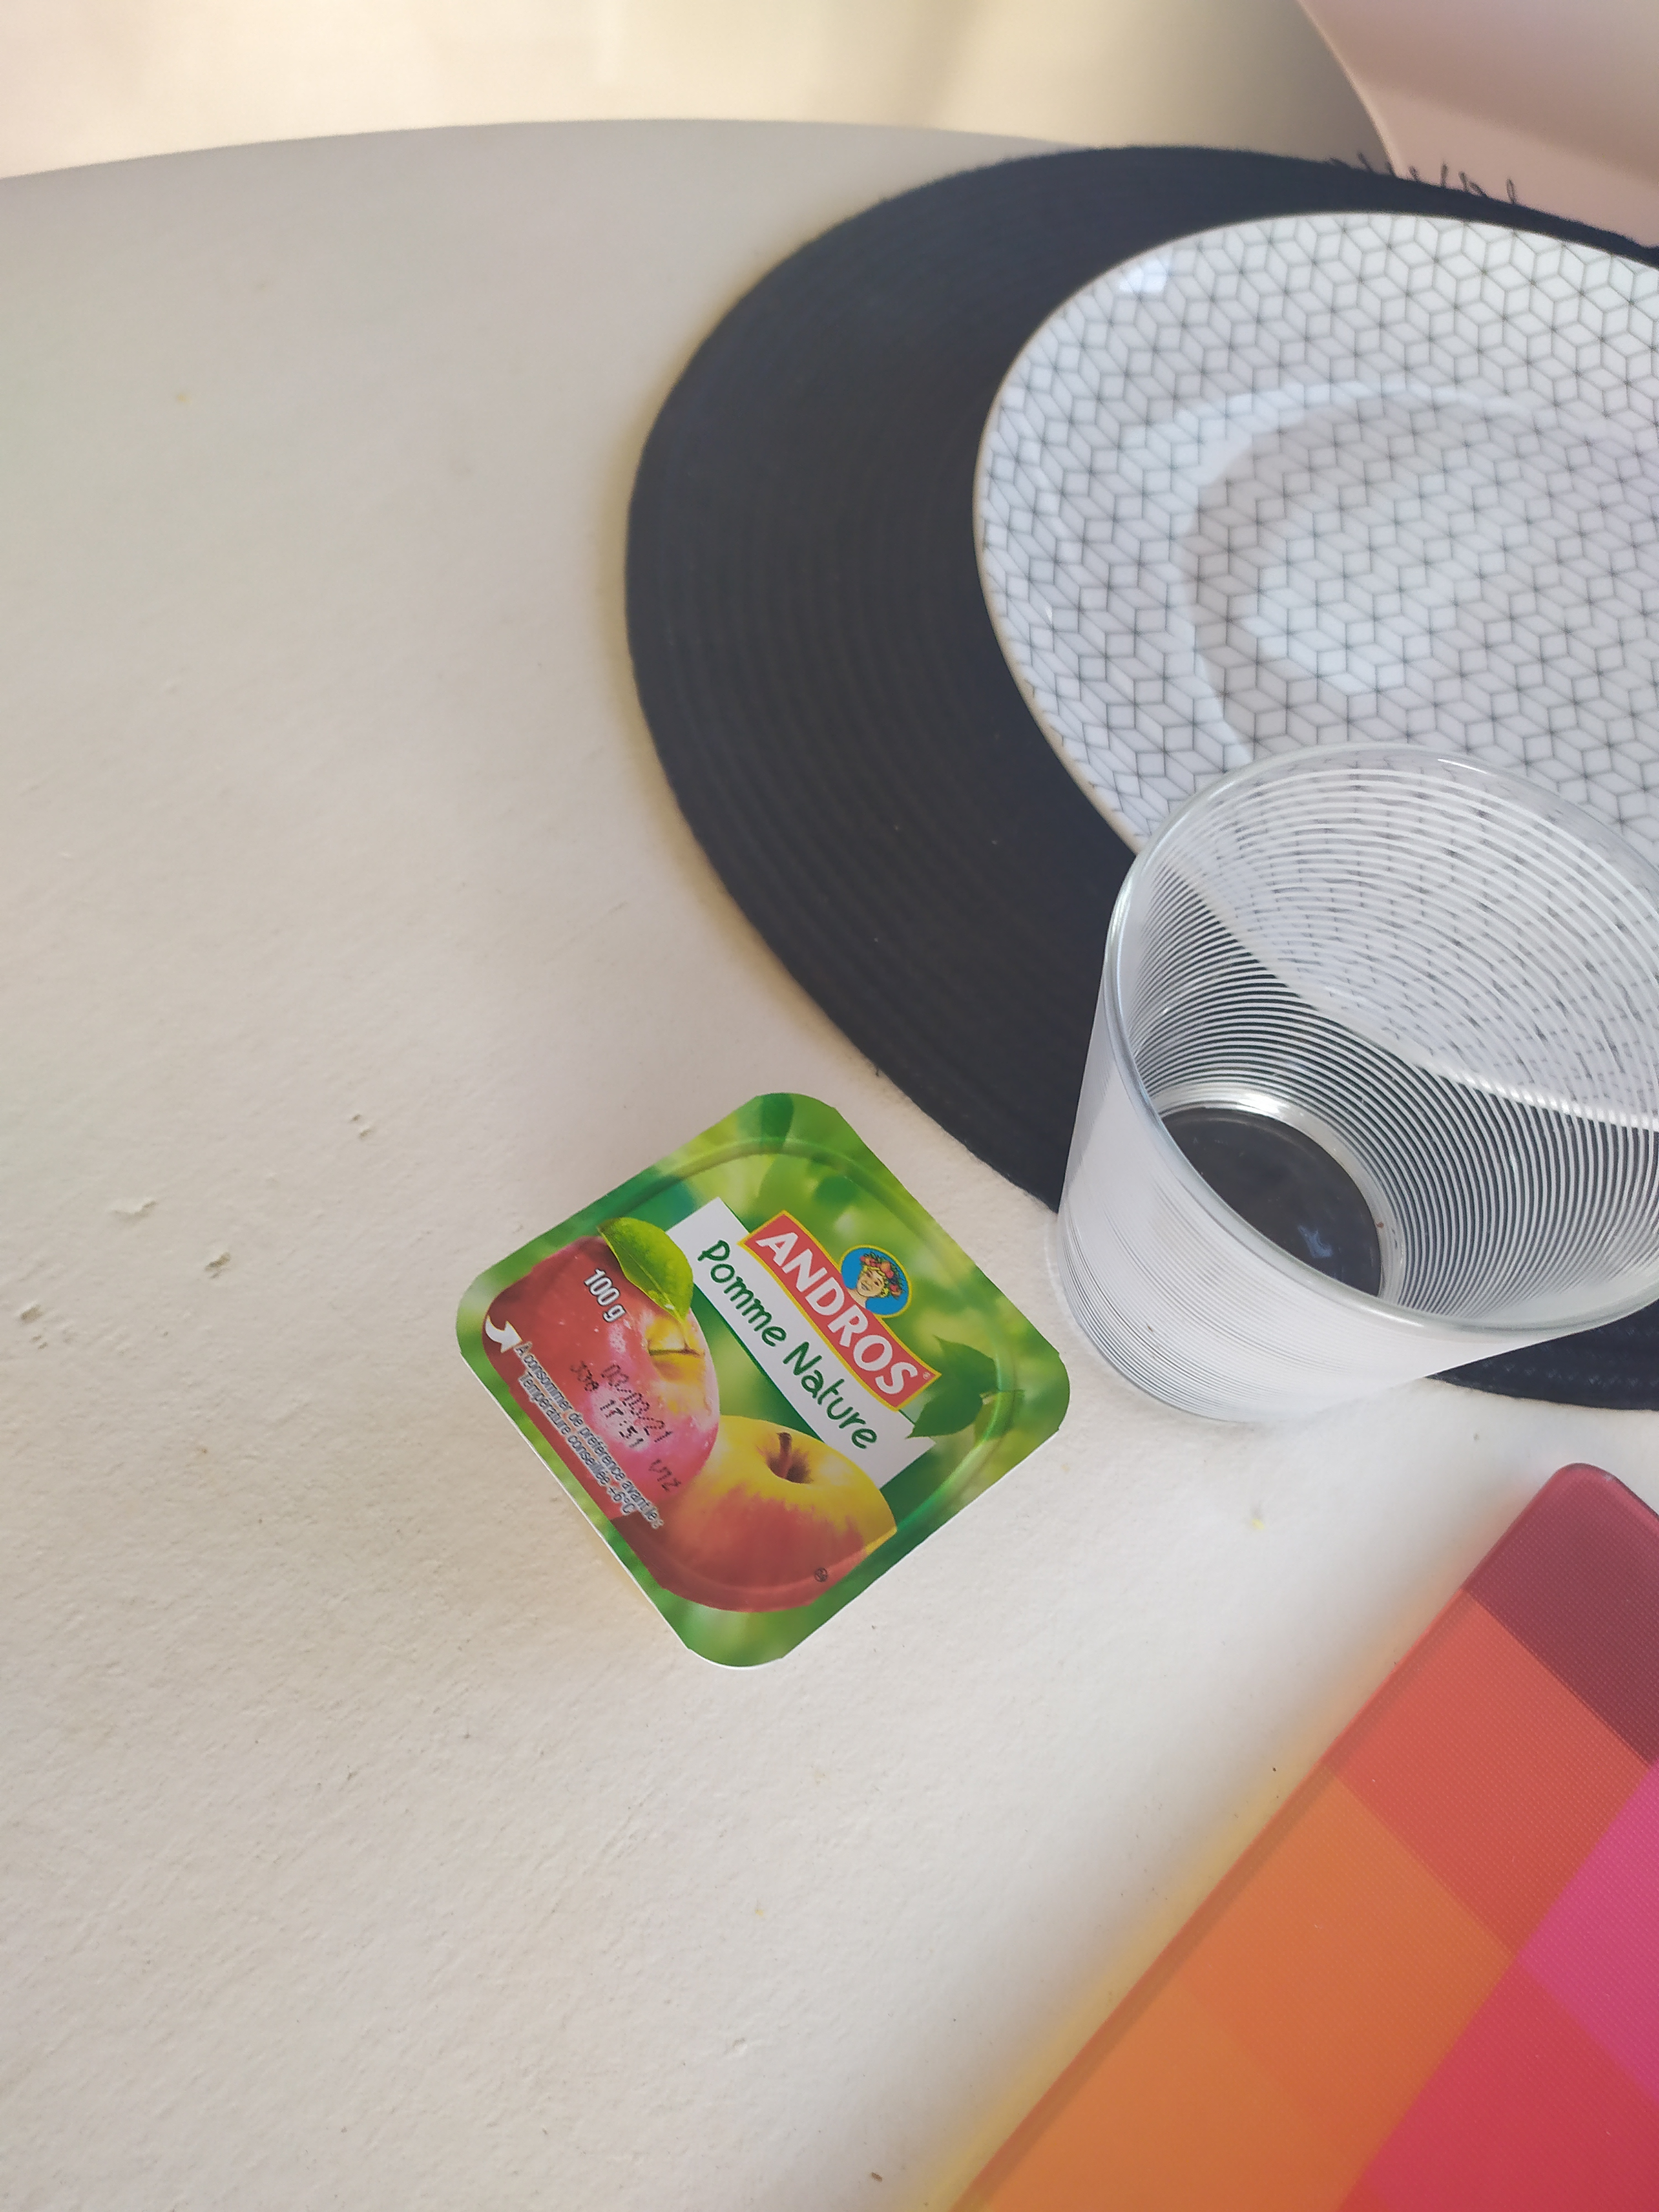compote: (453, 1092, 1065, 1677)
